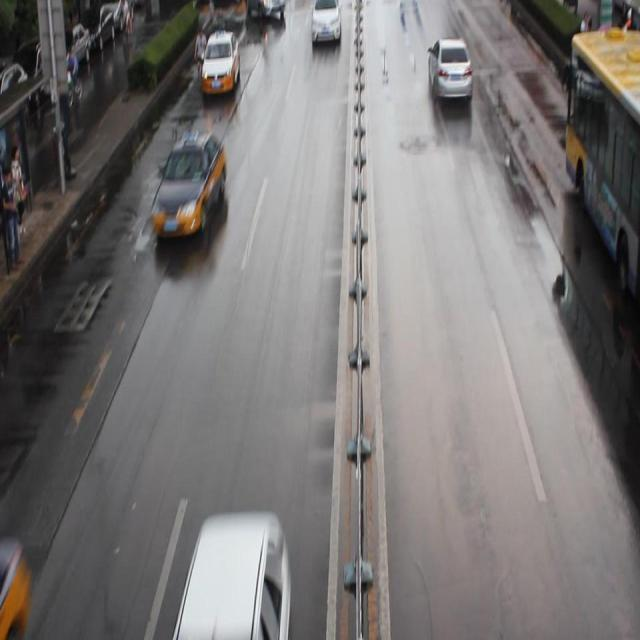car: (173, 515, 291, 640), (151, 134, 227, 238), (427, 42, 472, 104), (200, 32, 240, 98), (310, 1, 341, 46), (244, 1, 284, 22)
van: (564, 29, 640, 306)
